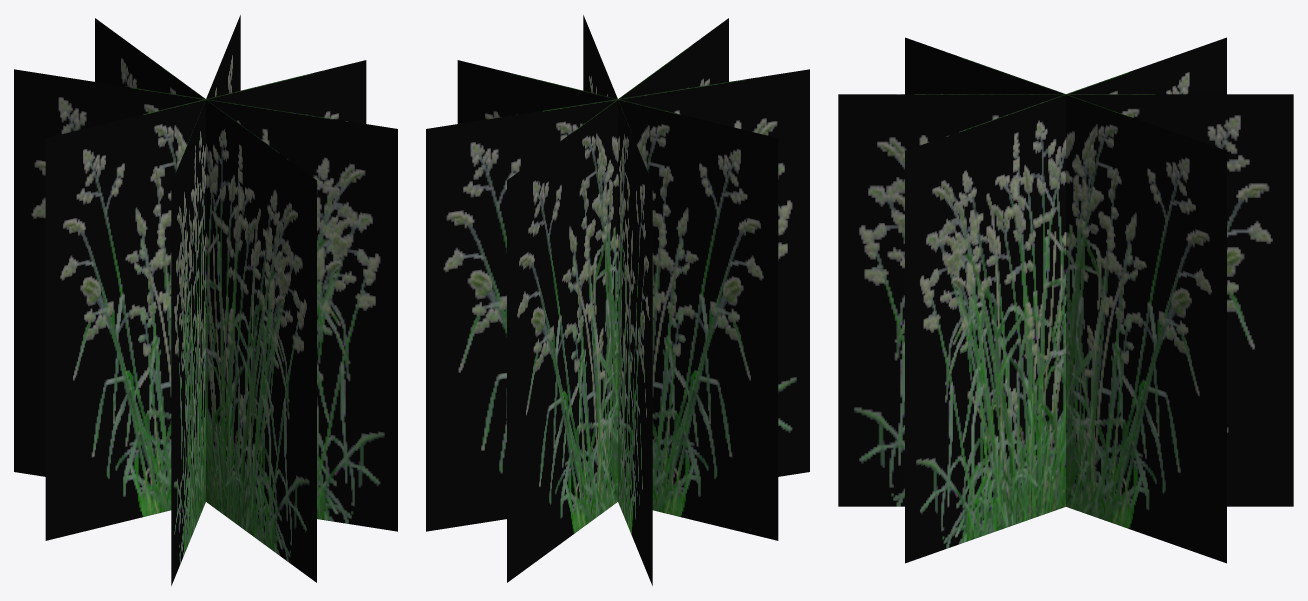
The model's file is Plant1.fbx.
3 renders of one model, left to right at view 1: azimuth 30°, elevation 25°; view 2: azimuth 150°, elevation 25°; view 3: azimuth 270°, elevation 25°, orthographic. The views are drawn at different scales.
Parts seen in each view (by area): view 1: Plant; view 2: Plant; view 3: Plant.
Part boxes in pixels (x1,y1,x2,y2): Plant: (14,15,397,585); Plant: (426,15,809,585); Plant: (838,37,1293,563).
Size of the model in its own units: 0.5 by 0.6 by 0.6.
1 material, 1 textured.
